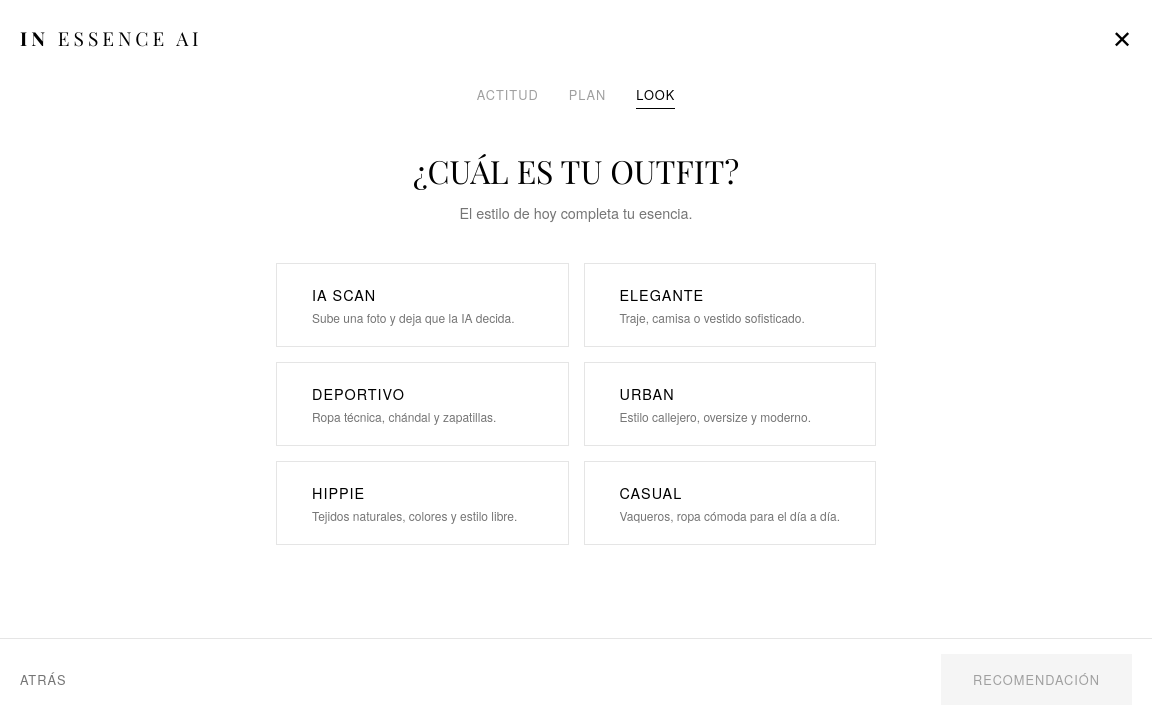
Test: ViewLookAnalysis - Flujo Completo con Carrusel y Errores › Flujo Carrusel + Error 429 › muestra carrusel durante carga y luego error 429 (límite peticiones)
What coordinates should you click on to do the following:
click the text "DEPORTIVO"
I would click on:
 (358, 394)
Its box is [312,383,405,404].
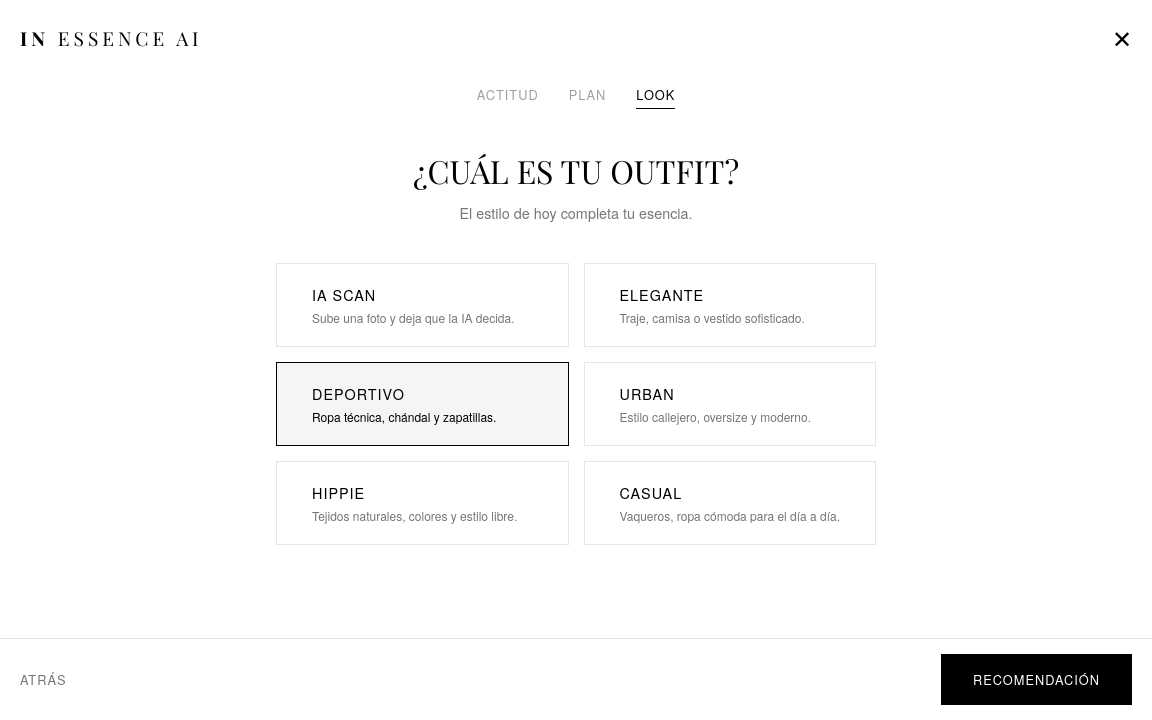
What coordinates should you click on to do the following:
click the button "RECOMENDACIÓN"
I would click on:
 (1036, 680)
Its box is [941,654,1132,705].
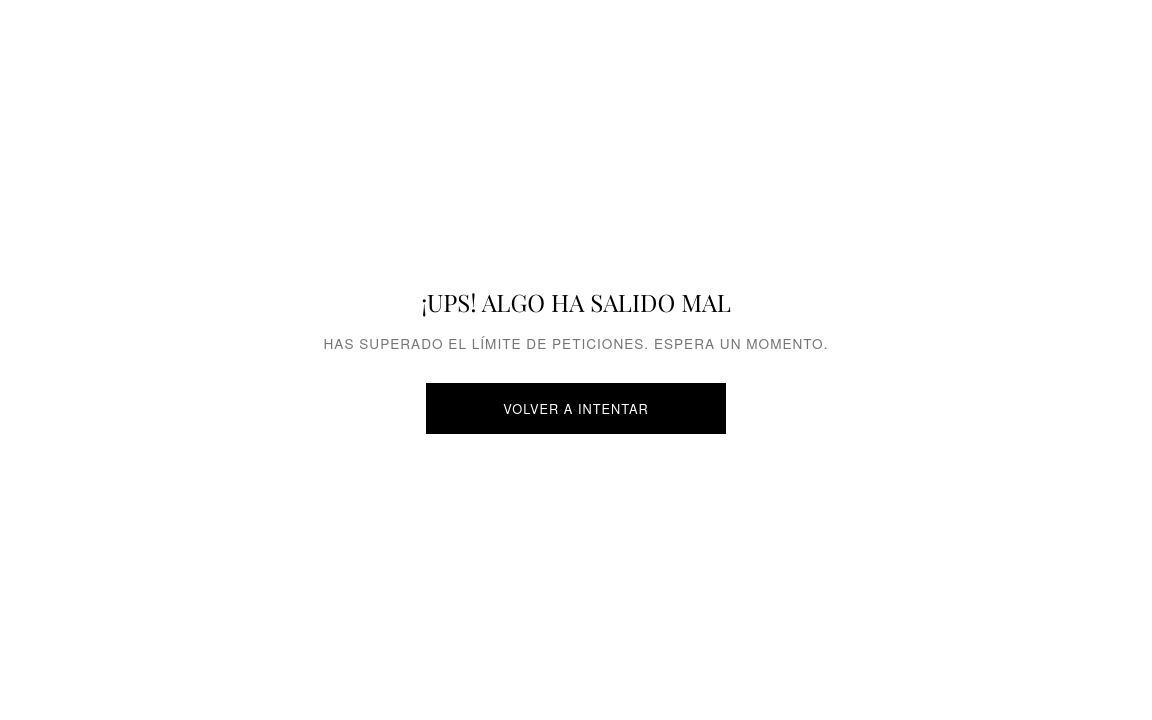
Expected: the heading "¡UPS! ALGO HA SALIDO MAL" is shown, [421,286,731,318]
Expected: the text "Has superado el límite de peticiones. Espera un momento." is shown, [324,333,828,353]
